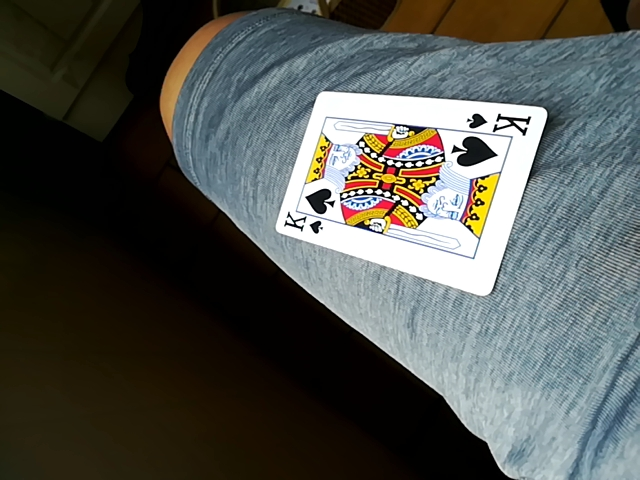ht k: (274, 93, 545, 298)
